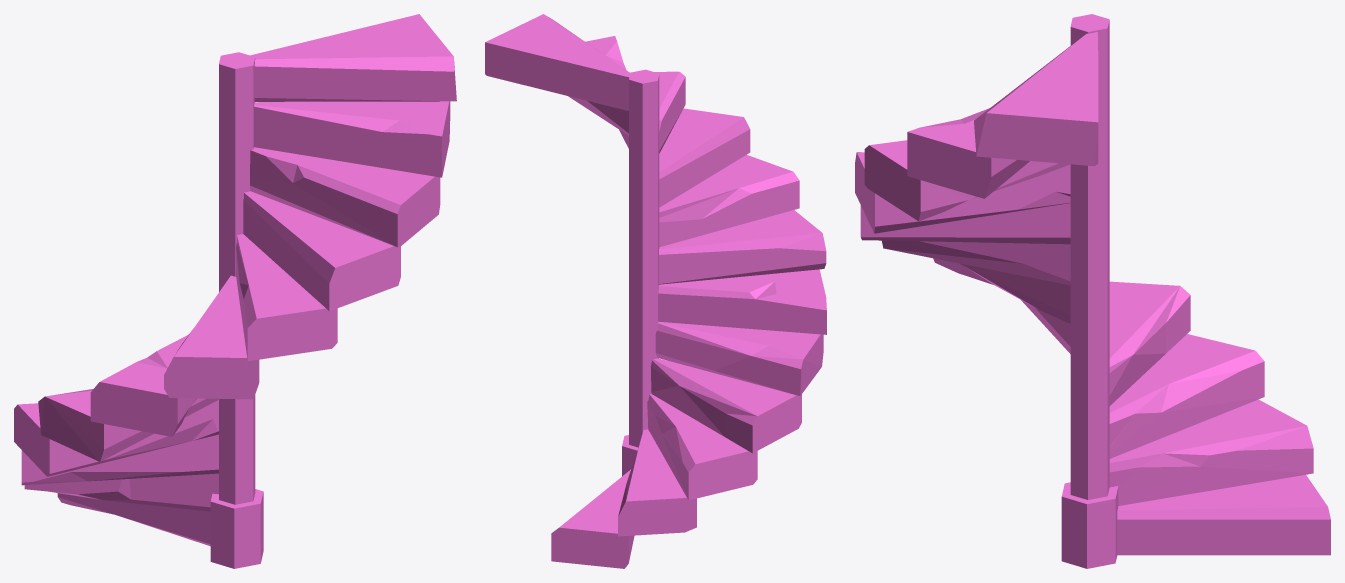
Rendered from SM_Stairs_Spiral_3m.fbx.
3 views of the same model, side by side, from view 1: azimuth 30°, elevation 25°; view 2: azimuth 150°, elevation 25°; view 3: azimuth 270°, elevation 25° (orthographic). The views are drawn at different scales.
Visible parts, largest first — view 1: SM_Stairs_Spiral_3m; view 2: SM_Stairs_Spiral_3m; view 3: SM_Stairs_Spiral_3m.
Part boxes in pixels (left/top/right/bottom): SM_Stairs_Spiral_3m: left=14, top=14, right=456, bottom=568; SM_Stairs_Spiral_3m: left=485, top=14, right=826, bottom=568; SM_Stairs_Spiral_3m: left=855, top=14, right=1330, bottom=568.
Bounding box in the file's own units: 2.38 × 2.98 × 2.41.
